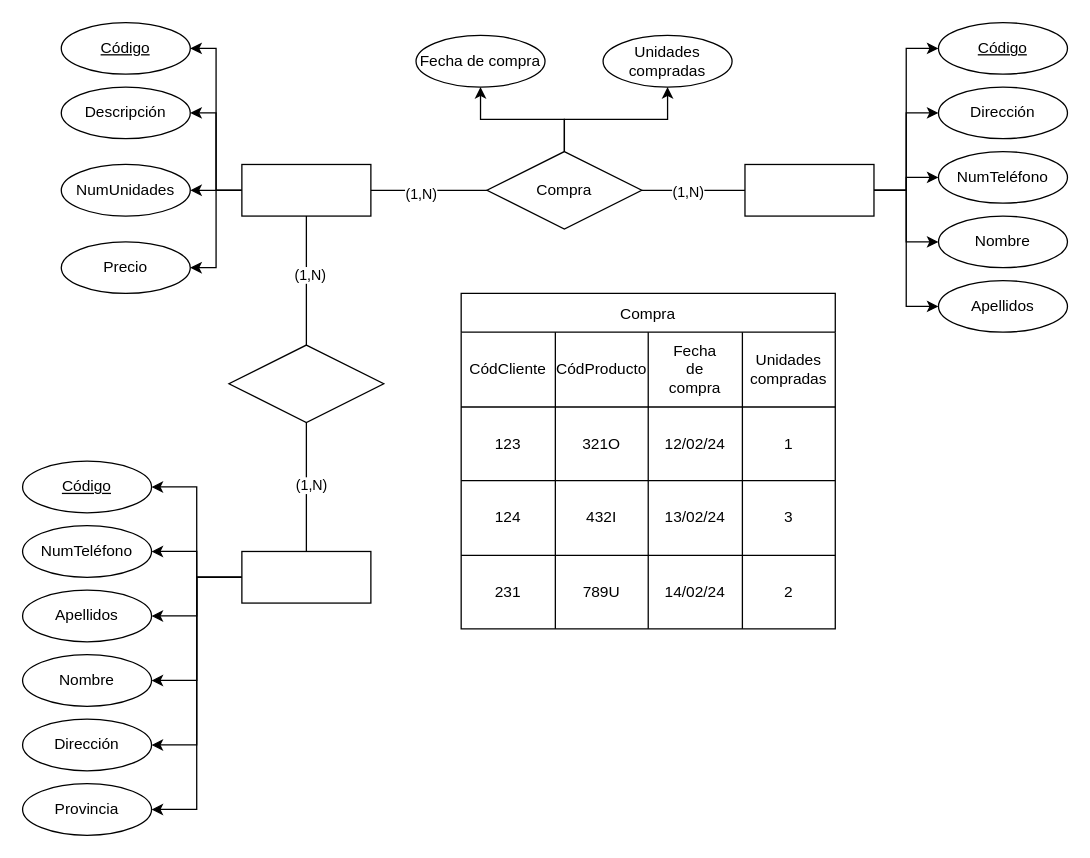
This 1090x858 diagram has some shape labels left out. Here are the shapes that lost their labels. From the top down, the centre of each, then its label:
At point (306, 189): "PRODUCTO".
At point (809, 189): "CLIENTE".
At point (306, 383): "Suministrar".
At point (306, 576): "PROVEEDOR".
